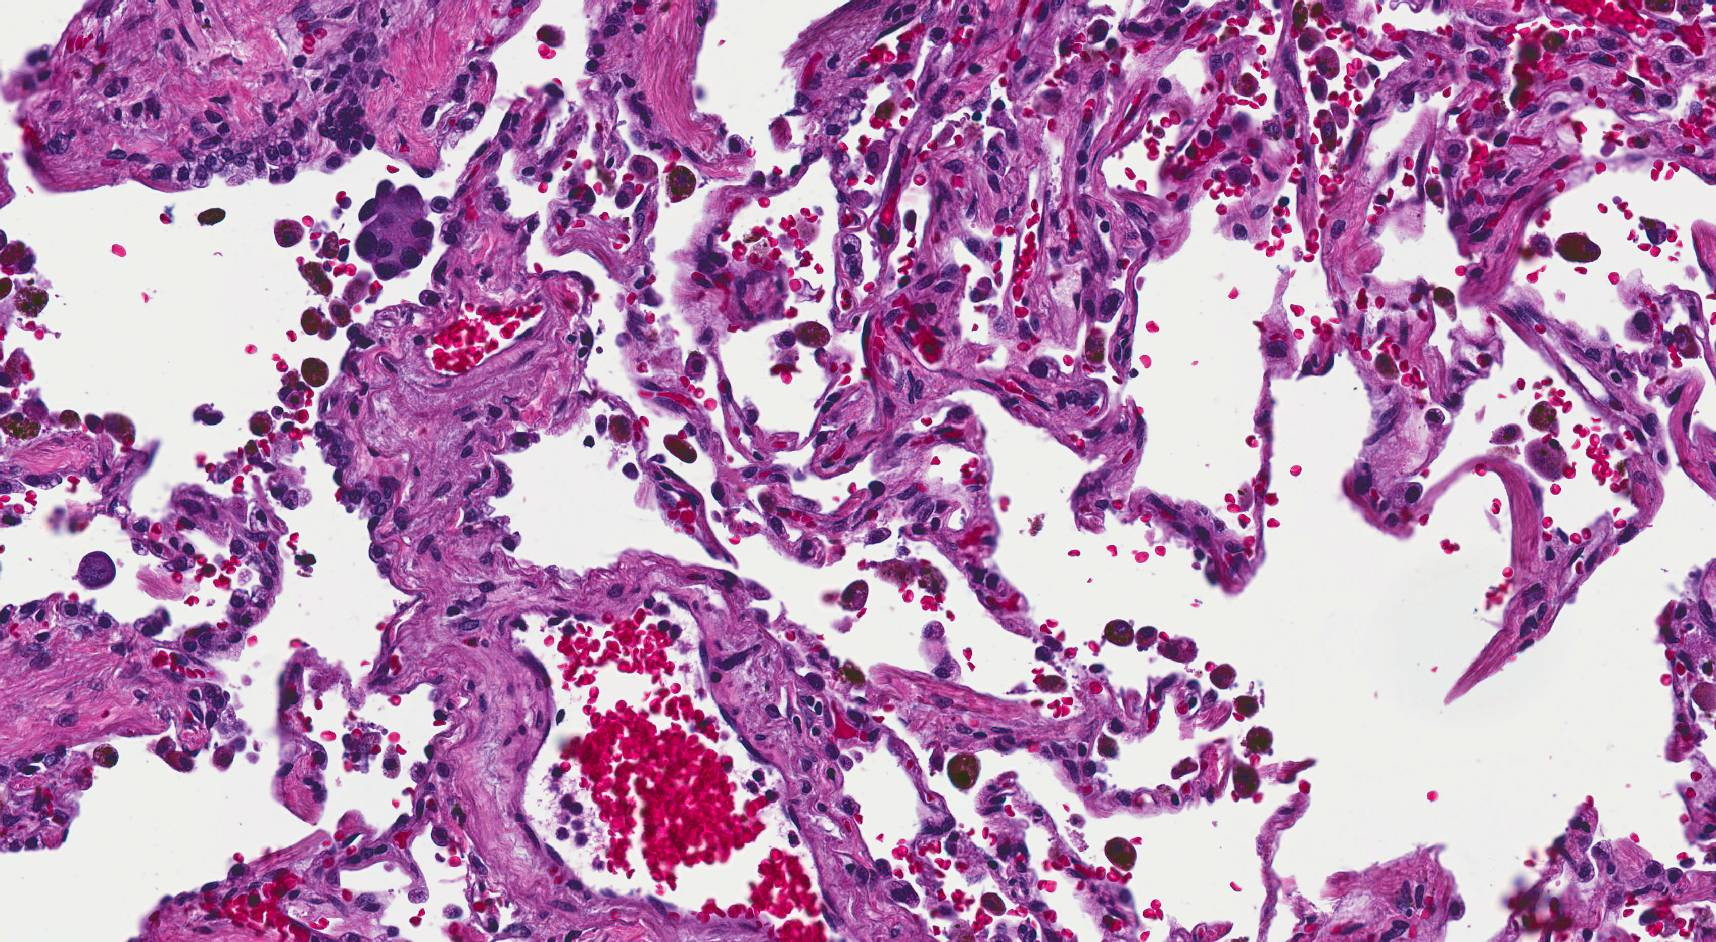stas: (353, 180, 434, 279)
